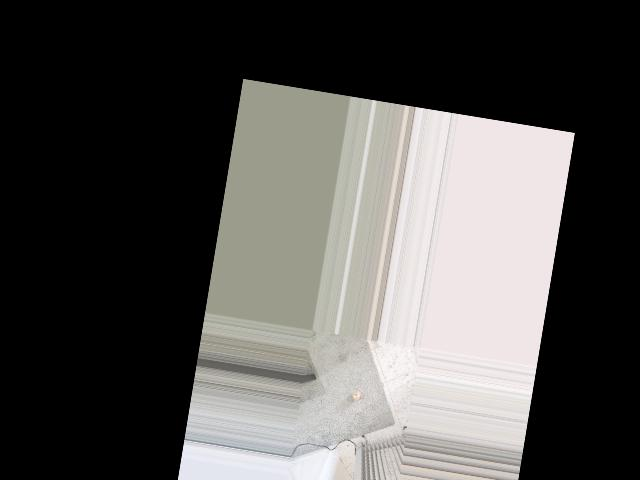onion: (351, 389, 362, 402)
